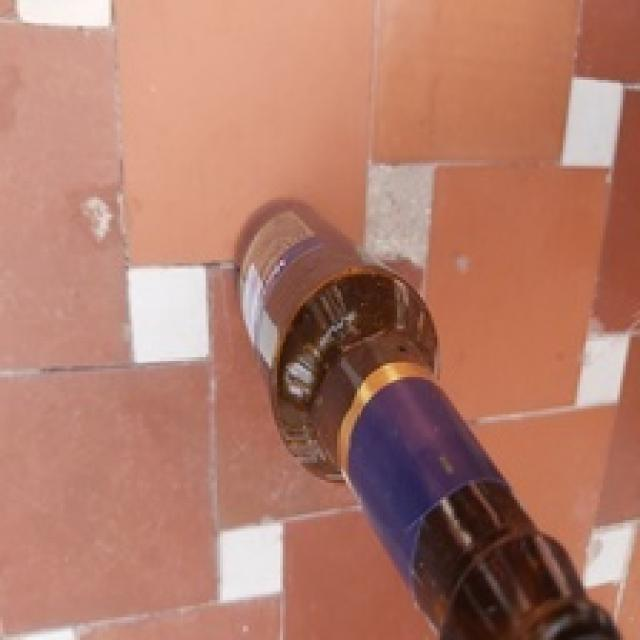Glass: (232, 199, 618, 640)
